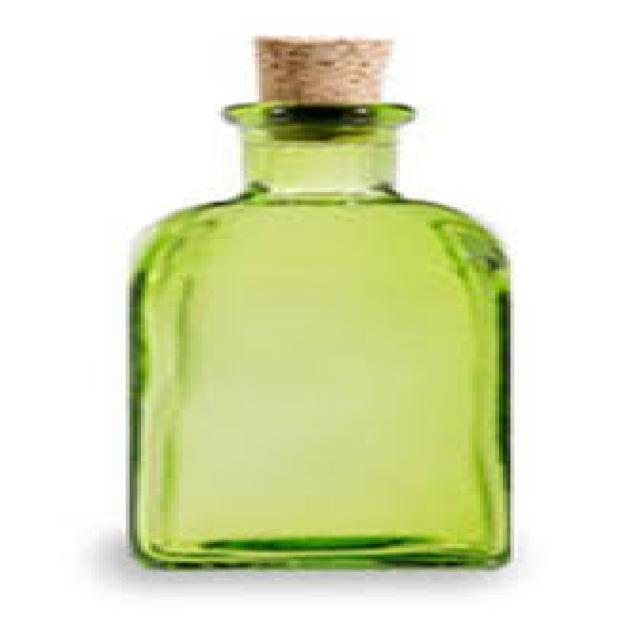glass: (126, 98, 507, 572)
